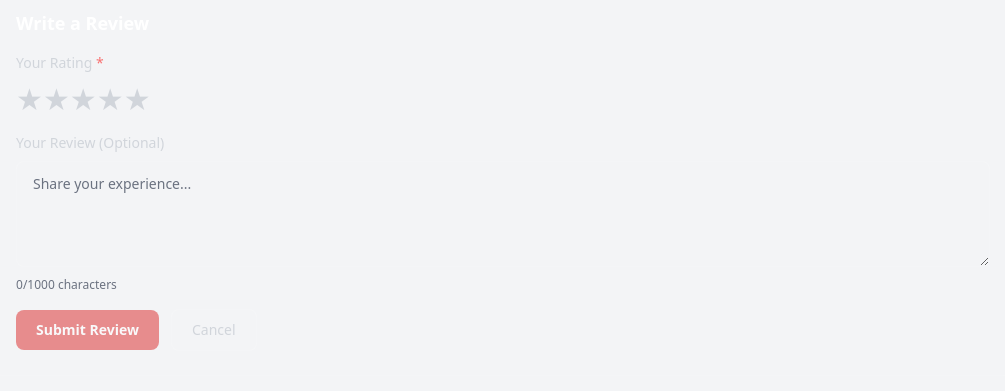
Test: ReviewForm Component › Rating Validation › submit button becomes enabled after rating is selected
Note: Click on 4th star
Click the 4th button "★".
click(110, 99)  # box 97,81 -> 124,117
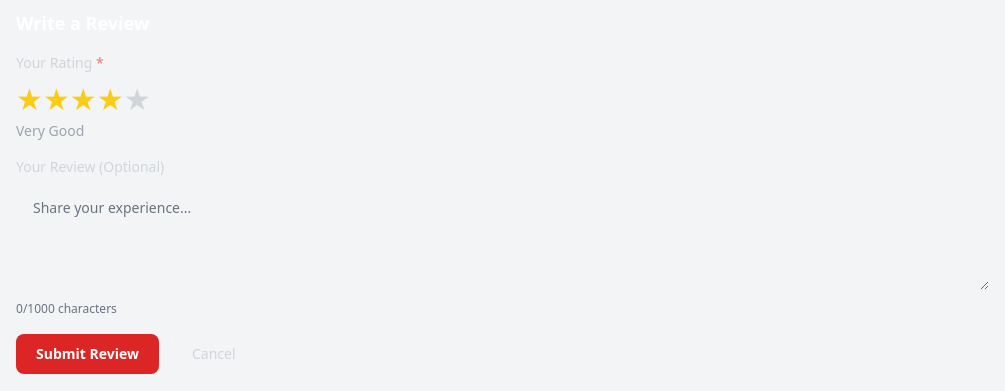
Expected: the button "Submit Review" is enabled, 16,334 -> 159,374
